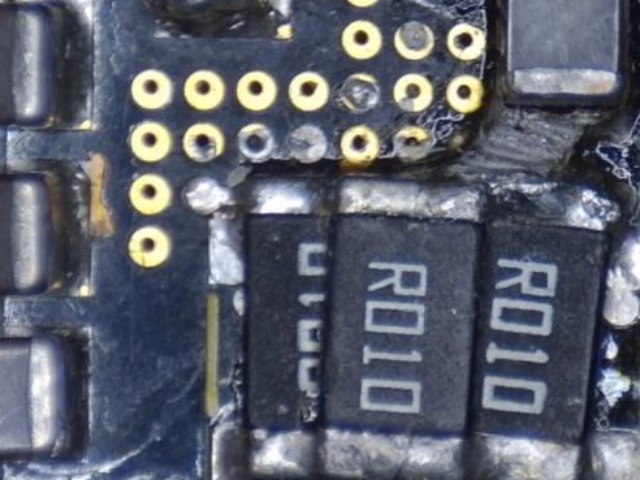pcb_defect: (202, 172, 640, 480), (181, 66, 640, 326), (209, 424, 640, 480)
